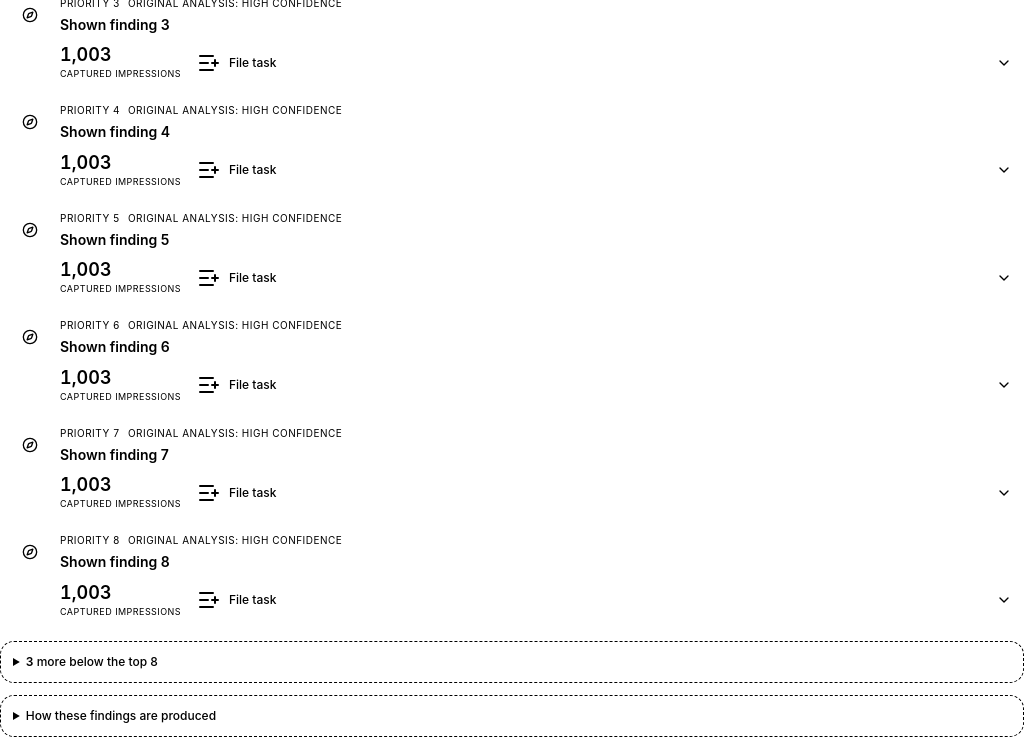
Test: ExecutiveFindingsList reaches what the eight-card cut dropped › counts the suppressed findings and discloses their titles
(page scrolled)
Check: the element showing "3 more below the top 8" is shown, box [0,641,1023,683]
Click the heading "3 more below the top 8". click: (92, 661)
box: [26,654,158,669]
(page scrolled)
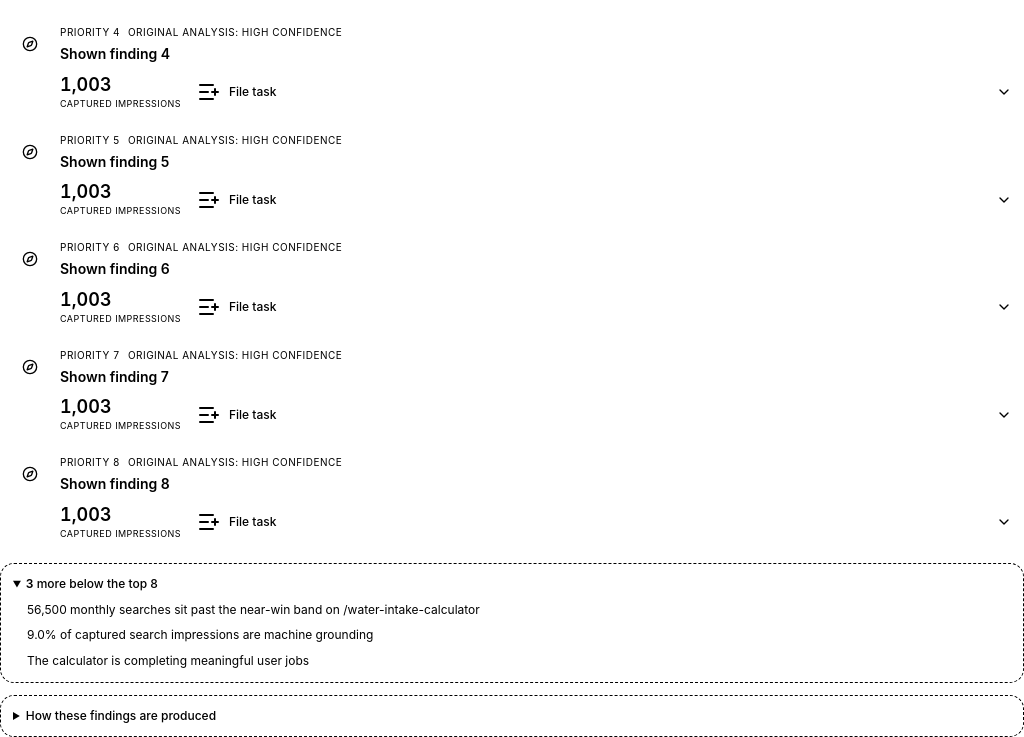
Check: the text "56,500 monthly searches sit past the near-win band on /water-intake-calculator" is shown, box [27,600,480,619]
Check: the text "9.0% of captured search impressions are machine grounding" is shown, box [27,625,373,645]
Check: the text "The calculator is completing meaningful user jobs" is shown, box [27,651,309,670]
